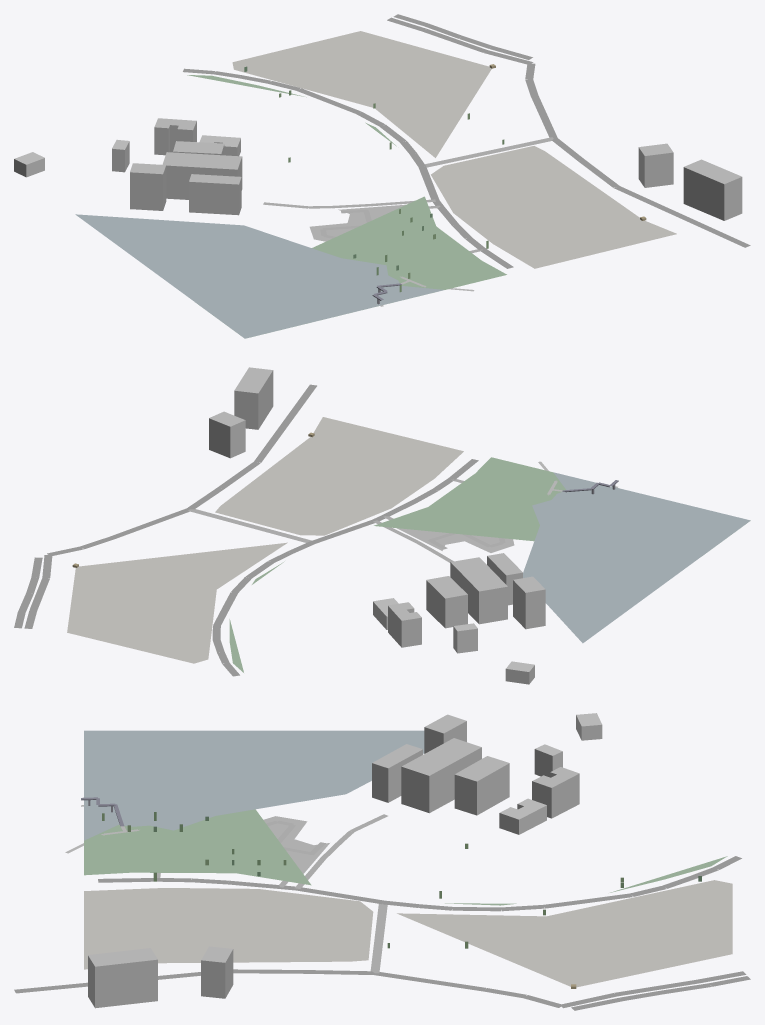
3 renders of one model, top to bottom at view 1: azimuth 30°, elevation 25°; view 2: azimuth 150°, elevation 25°; view 3: azimuth 270°, elevation 25°, orthographic. The views are drawn at different scales.
Bounding box in the file's own units: 511 × 37.13 × 568.
